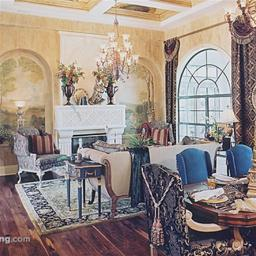Ventana: (177, 55, 235, 139)
